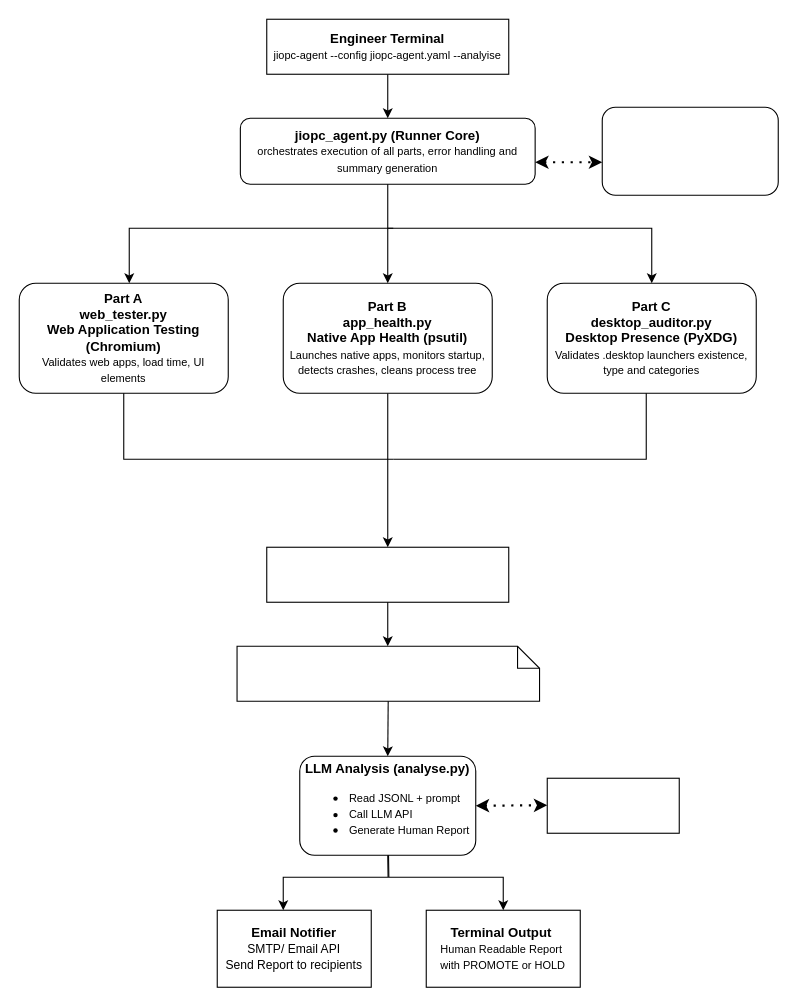
The diagram is 798 pixels wide and 1007 high, and some of its shapes have lost their labels. Each missing label, with the centre of its shape:
"Config jiopc-agent.yaml (YAML) Defines tests and timeouts with rules and order" belongs at [689,150].
"logger.py JSON Lines logger, per-test logging, summary writer" belongs at [387,574].
"Prompt Template prompts/analyse_log.txt" belongs at [612,805].
"~/.local/share/jiopc/agent/log_YYYYMMDD_HHMMSS.jsonl" belongs at [388,673].
